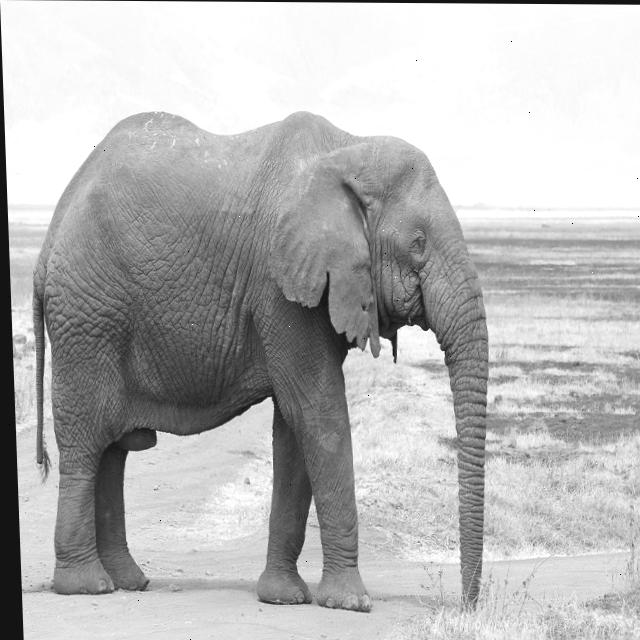Elephant: (22, 106, 499, 616)
